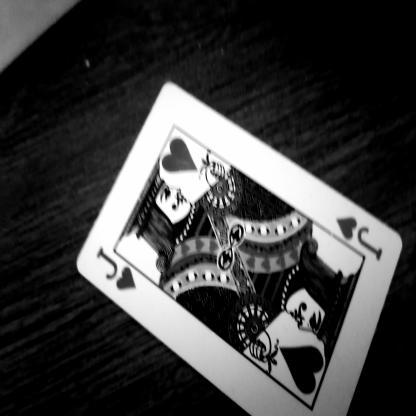JH: (92, 232, 145, 310), (335, 209, 398, 268)
